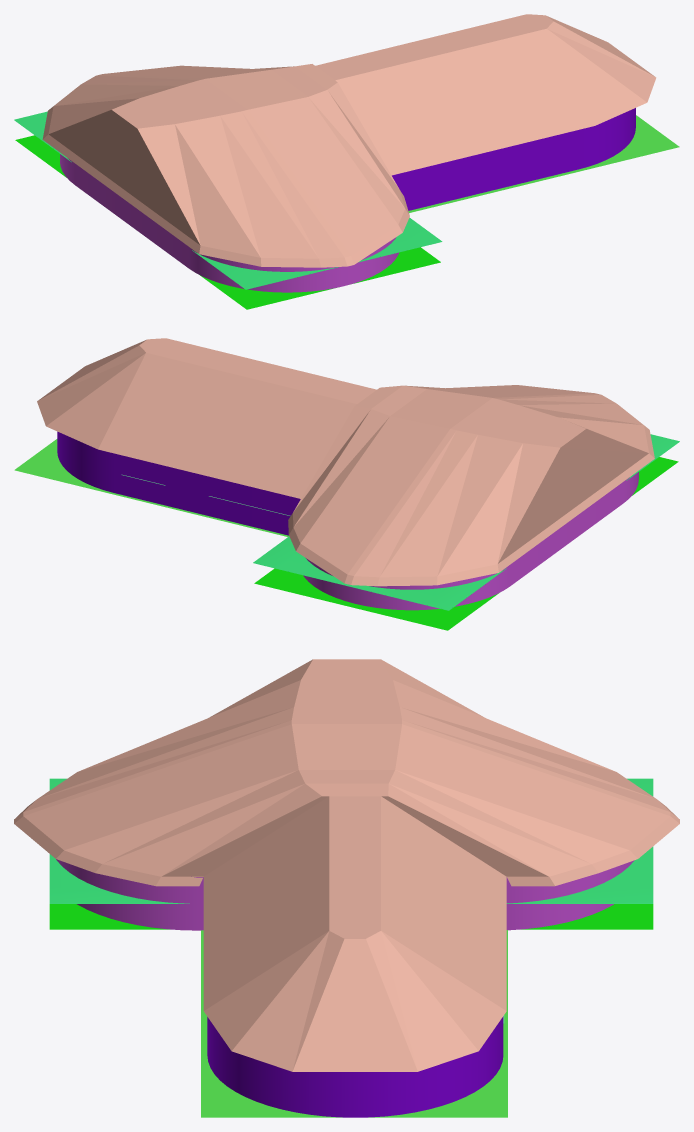
File: arcade_level.dae
3 views of the same model, one above another, from view 1: azimuth 30°, elevation 25°; view 2: azimuth 150°, elevation 25°; view 3: azimuth 270°, elevation 25° (orthographic). The views are drawn at different scales.
Visible parts, largest first — view 1: roof, arcade_wall, reception_wall, reception_first_floor, reception_ground_floor, arcade_ground_floor; view 2: roof, arcade_wall, reception_wall, reception_first_floor, reception_ground_floor, arcade_ground_floor; view 3: roof, arcade_wall, reception_wall, arcade_ground_floor, reception_first_floor, reception_ground_floor.
Part boxes in pixels (box(x1,y1,x2,y2)): roof: box(42, 14, 656, 267); arcade_wall: box(392, 108, 635, 210); reception_wall: box(60, 154, 399, 292); reception_first_floor: box(14, 111, 442, 289); reception_ground_floor: box(15, 135, 440, 309); arcade_ground_floor: box(408, 115, 679, 212); roof: box(37, 338, 654, 586); arcade_wall: box(57, 431, 300, 535); reception_wall: box(303, 472, 638, 610); reception_first_floor: box(253, 434, 679, 610); reception_ground_floor: box(254, 457, 678, 630); arcade_ground_floor: box(14, 439, 288, 536); roof: box(14, 659, 679, 1071); arcade_wall: box(207, 1016, 503, 1117); reception_wall: box(56, 859, 634, 930); arcade_ground_floor: box(201, 930, 507, 1117); reception_first_floor: box(49, 778, 653, 903); reception_ground_floor: box(49, 904, 653, 929).
Size of what is drawn, in the model's own units: 131 by 112 by 27.36.
